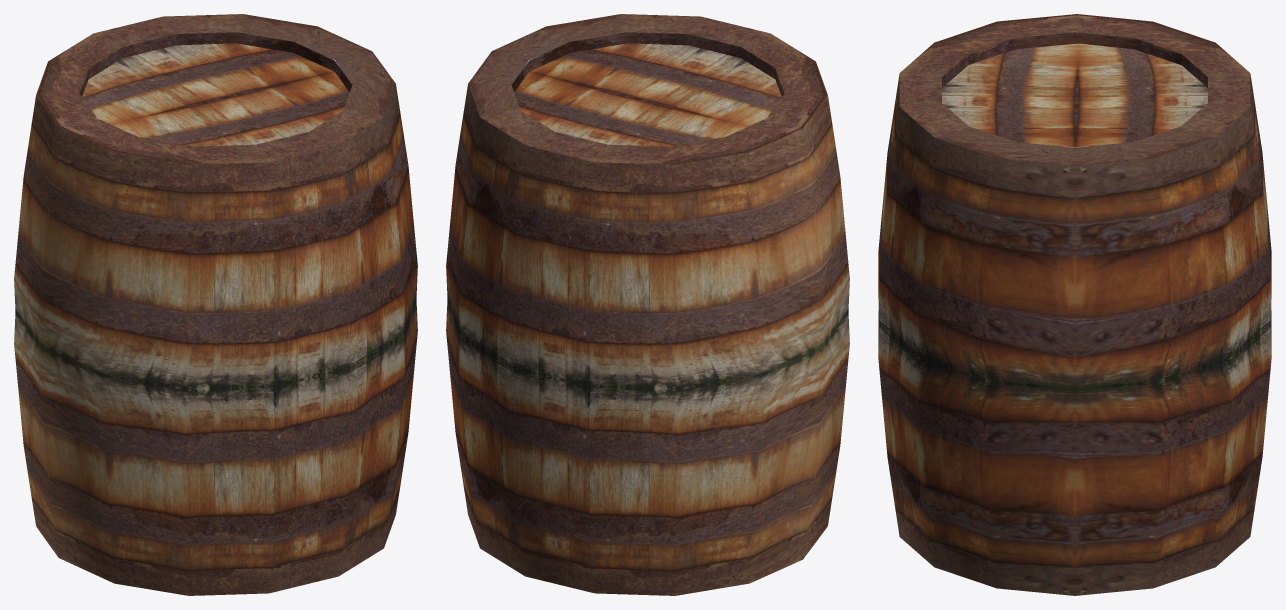
File: barrell2.obj
3 views of the same model, side by side, from view 1: azimuth 30°, elevation 25°; view 2: azimuth 150°, elevation 25°; view 3: azimuth 270°, elevation 25° (orthographic).
Parts seen in each view (by area): view 1: half_barrell; view 2: half_barrell; view 3: half_barrell.
Part boxes in pixels (<box>): half_barrell: <box>14,14,417,595</box>; half_barrell: <box>446,14,849,595</box>; half_barrell: <box>878,14,1271,595</box>.
Size of the model in its own units: 30.4 by 35.71 by 29.63.
